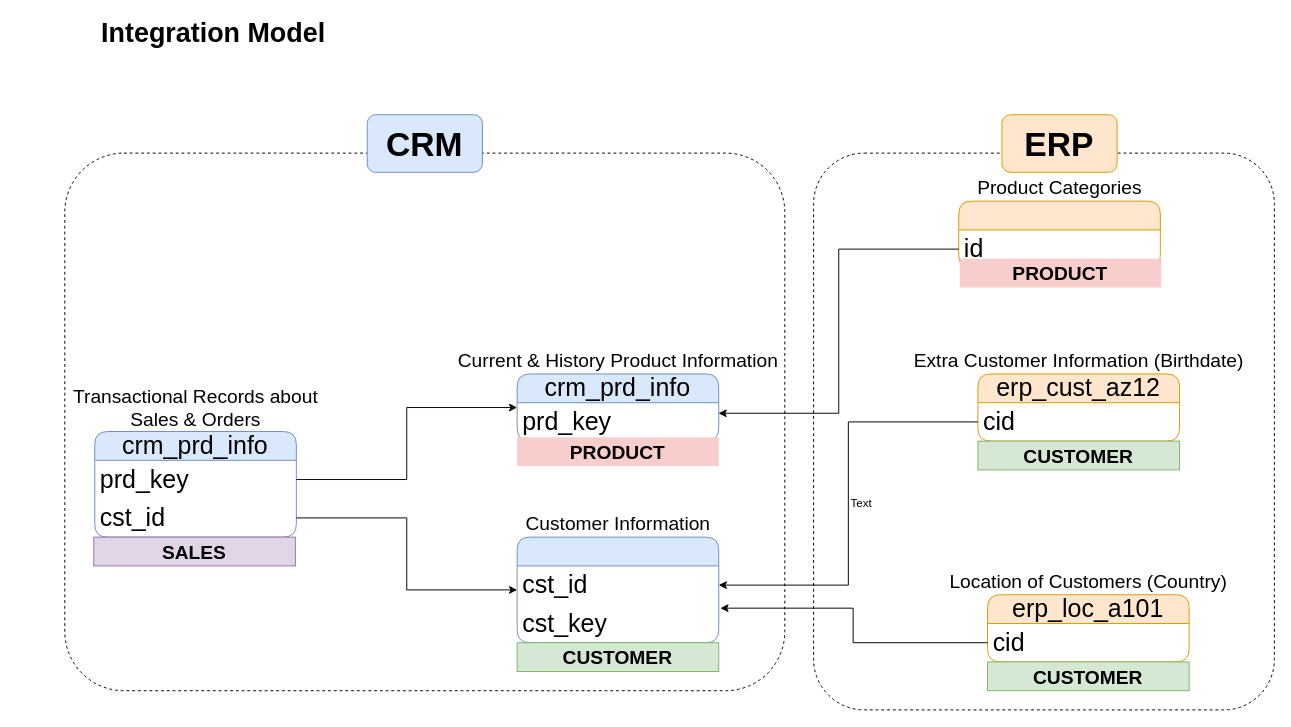
Some shapes in this 1291 by 727 pixel diagram are drawn without their labels. The box of each missing label's shape, as (x1, y1, x2, y2) in pixels:
crm_cust_info: (516, 536, 719, 643)
erp_px_cat_g1v2: (958, 200, 1160, 268)
